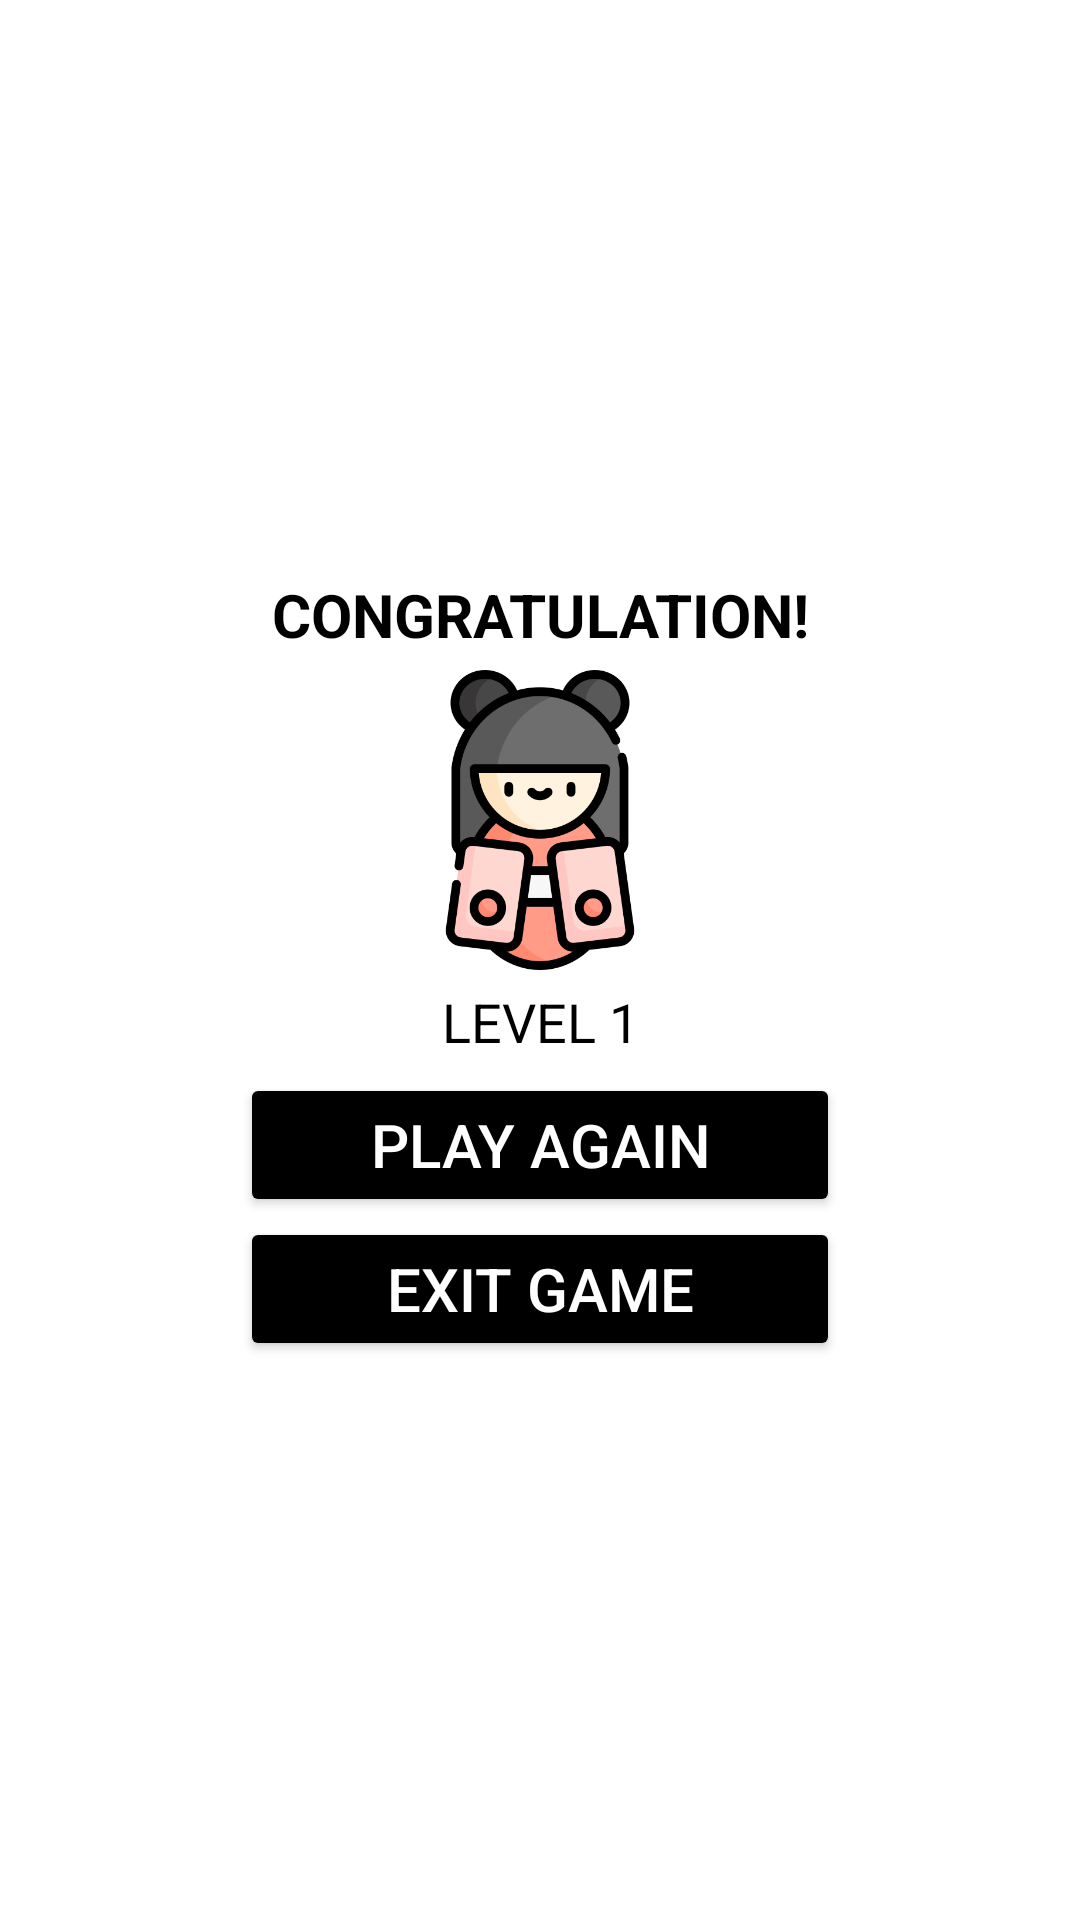

Named icons in this screenshot (1080×1920) and their bounding boxes, rect(x1, y1, x2, y2):
kokeshi: rect(445, 670, 635, 970)
